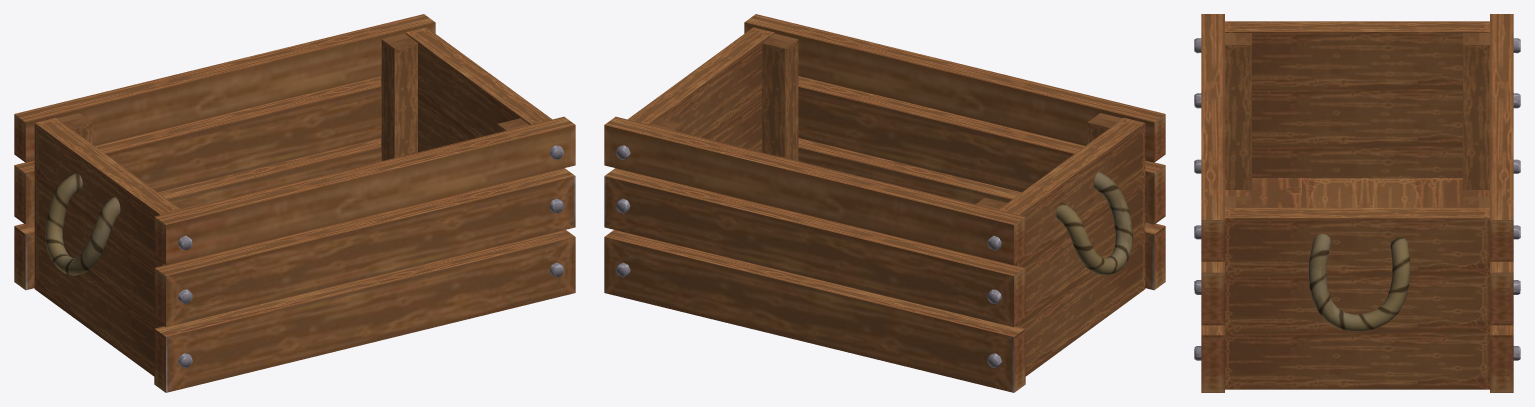
File: FarmCrate_Empty.gltf
The picture shows the model from 3 angles, left to right: view 1: azimuth 30°, elevation 25°; view 2: azimuth 150°, elevation 25°; view 3: azimuth 270°, elevation 25°; orthographic projection. The views are drawn at different scales.
Parts seen in each view (by area): view 1: FarmCrate_Empty; view 2: FarmCrate_Empty; view 3: FarmCrate_Empty.
Part boxes in pixels (left/top/right/bottom): FarmCrate_Empty: left=14, top=14, right=575, bottom=392; FarmCrate_Empty: left=604, top=14, right=1165, bottom=392; FarmCrate_Empty: left=1194, top=14, right=1520, bottom=392.
Size of the model in its own units: 0.7138 by 0.2438 by 0.4142.
Materials: 2 (2 with a texture image).
